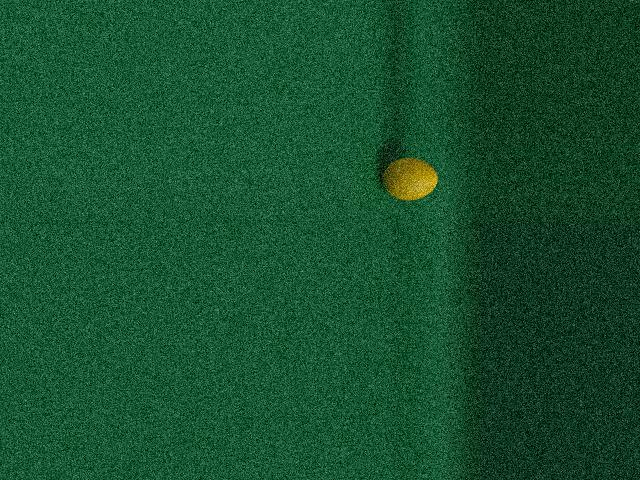egg: (382, 159, 438, 201)
